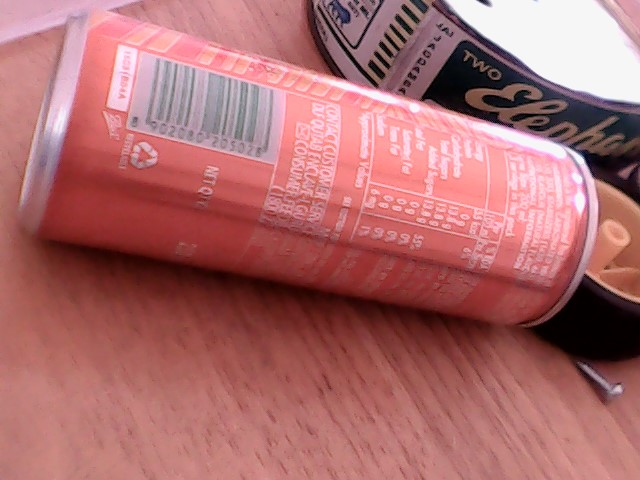Metal: (22, 5, 604, 335)
